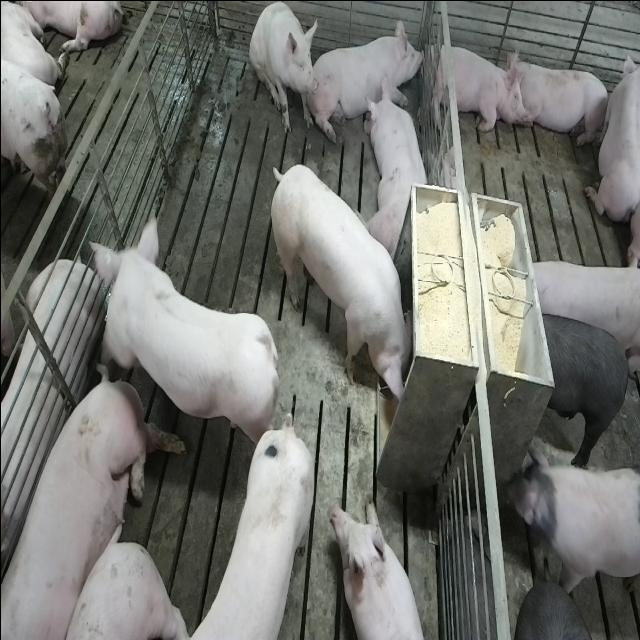Feeding: (272, 162, 420, 408)
Lateral_lying: (0, 369, 175, 640), (0, 256, 99, 576)
Sitting: (248, 1, 320, 136)
Standing: (84, 208, 278, 468), (174, 420, 320, 640), (506, 438, 638, 612), (534, 304, 632, 462), (523, 263, 637, 357), (516, 575, 606, 637)
Sternal_lying: (317, 12, 431, 142), (332, 500, 429, 640), (366, 82, 431, 256), (583, 41, 637, 231), (509, 50, 610, 150), (425, 36, 522, 135)
